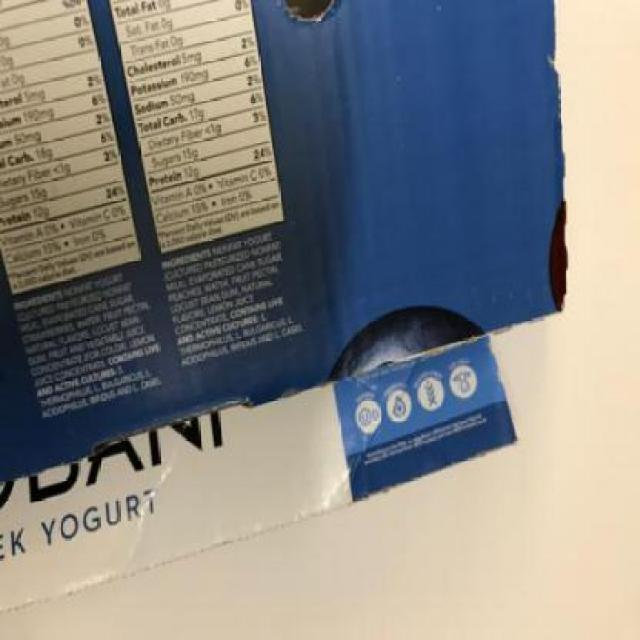box: (2, 1, 569, 617)
